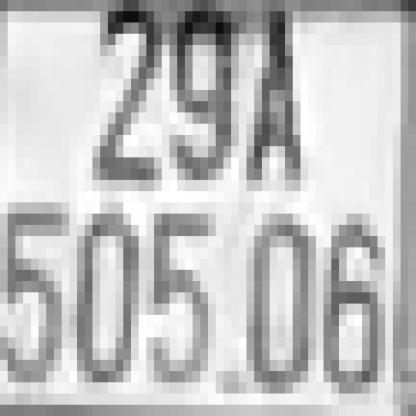0: (77, 202, 139, 371), (247, 214, 308, 382)
2: (92, 11, 162, 180)
5: (146, 202, 208, 371), (8, 202, 69, 371)
6: (316, 214, 377, 382)
9: (170, 11, 224, 180)
A: (239, 23, 300, 191)
